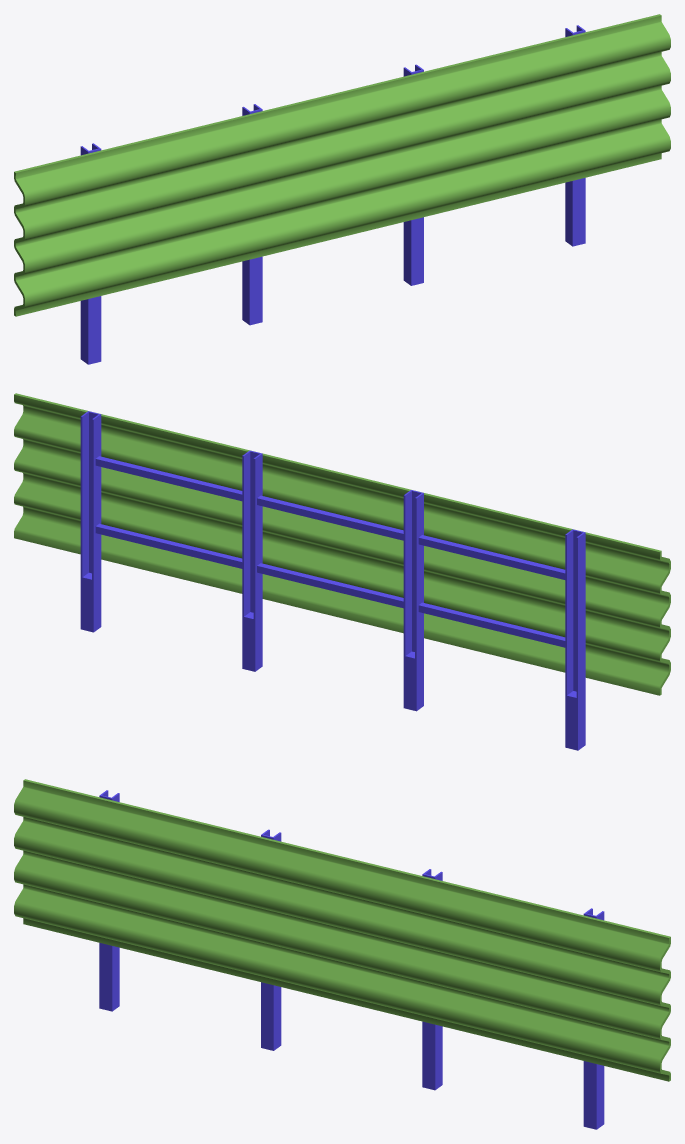
File: Fence_Wavy_01.FBX
3 renders of one model, top to bottom at view 1: azimuth 30°, elevation 25°; view 2: azimuth 150°, elevation 25°; view 3: azimuth 330°, elevation 25°, orthographic.
Visible parts, largest first — view 1: Fence_Wavy_01; view 2: Fence_Wavy_01; view 3: Fence_Wavy_01.
Part boxes in pixels (left/top/right/bottom): Fence_Wavy_01: left=14, top=14, right=670, bottom=364; Fence_Wavy_01: left=14, top=393, right=670, bottom=750; Fence_Wavy_01: left=14, top=779, right=670, bottom=1129.
Bounding box in the file's own units: 4 × 1.26 × 0.1992.
